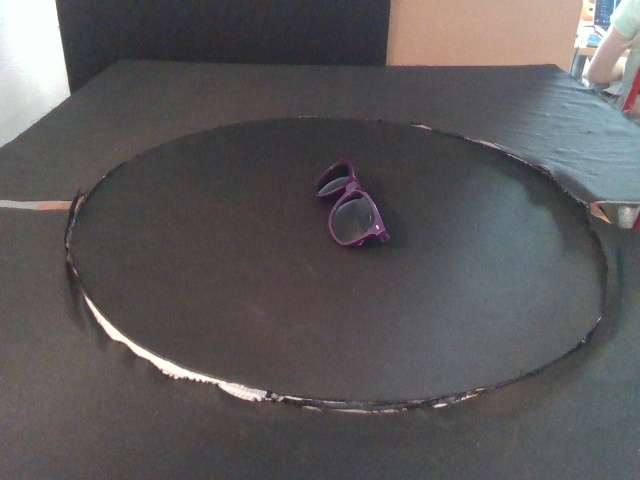glasses: (311, 154, 391, 249)
